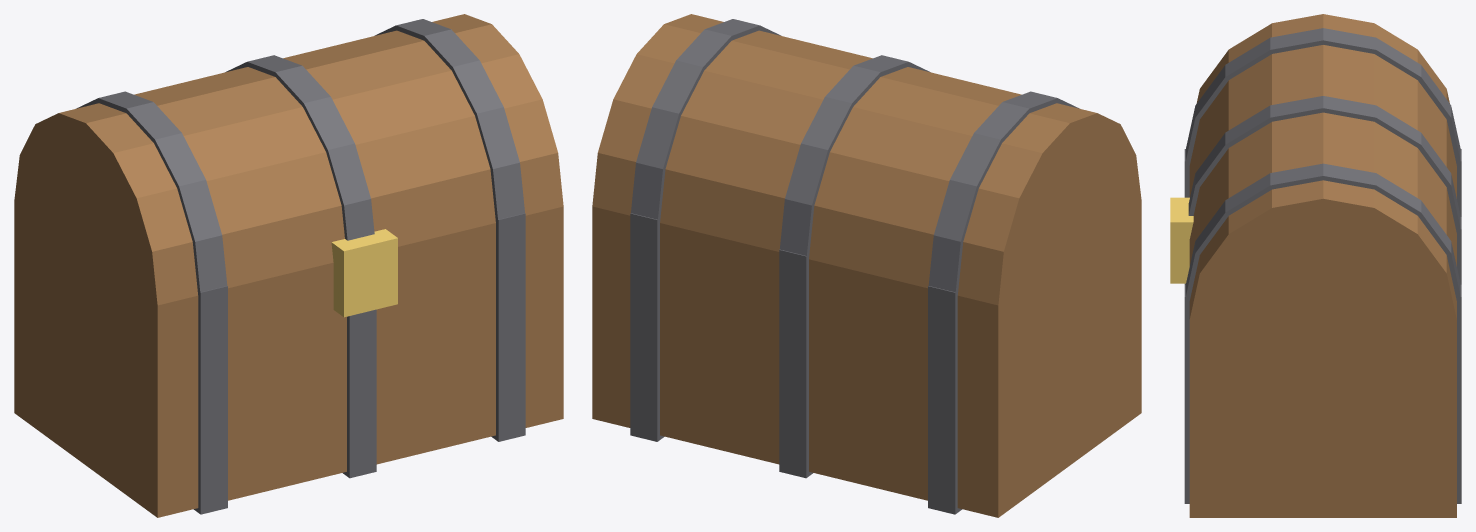
File: treasure_chest.glb
3 views of the same model, side by side, from view 1: azimuth 30°, elevation 25°; view 2: azimuth 150°, elevation 25°; view 3: azimuth 270°, elevation 25° (orthographic). The views are drawn at different scales.
Parts seen in each view (by area): view 1: Body, Lid, LidBand-0.33, LidBand0.33, Band0.33, Band-0.33, LidBand0, Lock, Band0; view 2: Body, Lid, LidBand0, LidBand-0.33, LidBand0.33, Band0.33, Band0, Band-0.33; view 3: Lid, Body, LidBand-0.33, LidBand0.33, LidBand0, Band0.33, Lock, Band-0.33.
Boxes of the visible parts, left/top/right/bottom form: Body: left=14, top=201, right=563, bottom=517; Lid: left=14, top=14, right=563, bottom=305; LidBand-0.33: left=76, top=91, right=227, bottom=292; LidBand0.33: left=374, top=19, right=524, bottom=222; Band0.33: left=491, top=213, right=525, bottom=441; Band-0.33: left=193, top=286, right=227, bottom=514; LidBand0: left=225, top=55, right=374, bottom=240; Lock: left=331, top=229, right=397, bottom=317; Band0: left=343, top=309, right=376, bottom=478; Body: left=592, top=201, right=1141, bottom=517; Lid: left=592, top=14, right=1141, bottom=305; LidBand0: left=779, top=55, right=930, bottom=258; LidBand-0.33: left=928, top=91, right=1079, bottom=292; LidBand0.33: left=631, top=19, right=781, bottom=219; Band0.33: left=630, top=213, right=664, bottom=441; Band0: left=779, top=249, right=812, bottom=478; Band-0.33: left=928, top=286, right=962, bottom=514; Lid: left=1189, top=14, right=1456, bottom=319; Body: left=1189, top=320, right=1456, bottom=517; LidBand-0.33: left=1185, top=28, right=1461, bottom=165; LidBand0.33: left=1185, top=163, right=1461, bottom=300; LidBand0: left=1188, top=96, right=1460, bottom=229; Band0.33: left=1184, top=284, right=1461, bottom=503; Lock: left=1170, top=197, right=1193, bottom=283; Band-0.33: left=1184, top=149, right=1461, bottom=216.
Size of the model in its own units: 0.9 by 0.745 by 0.6.
